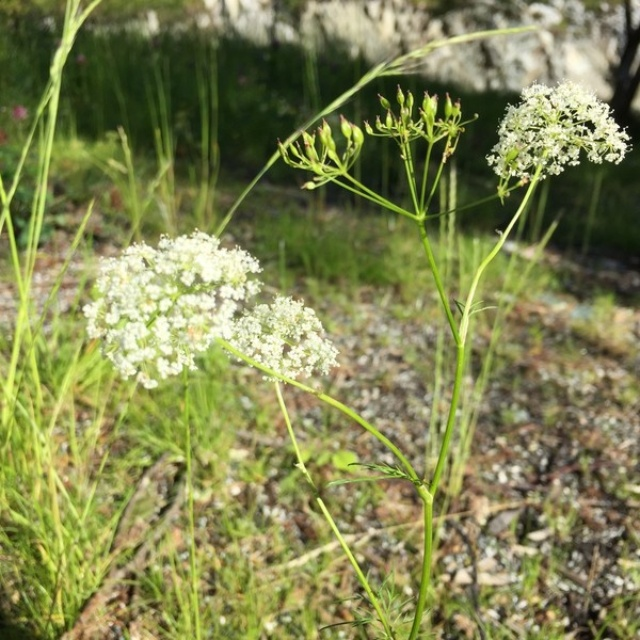obstacle: (282, 69, 634, 497), (14, 201, 410, 501)
